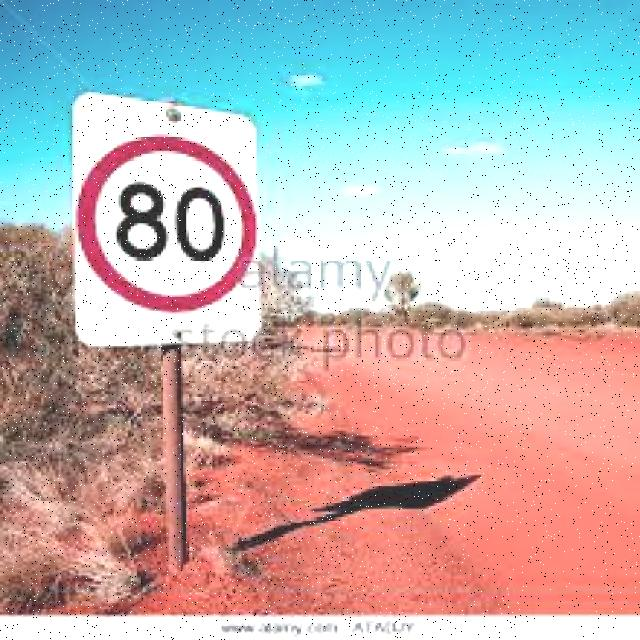Ograniczenie predkosci do 80: (81, 132, 259, 316)
